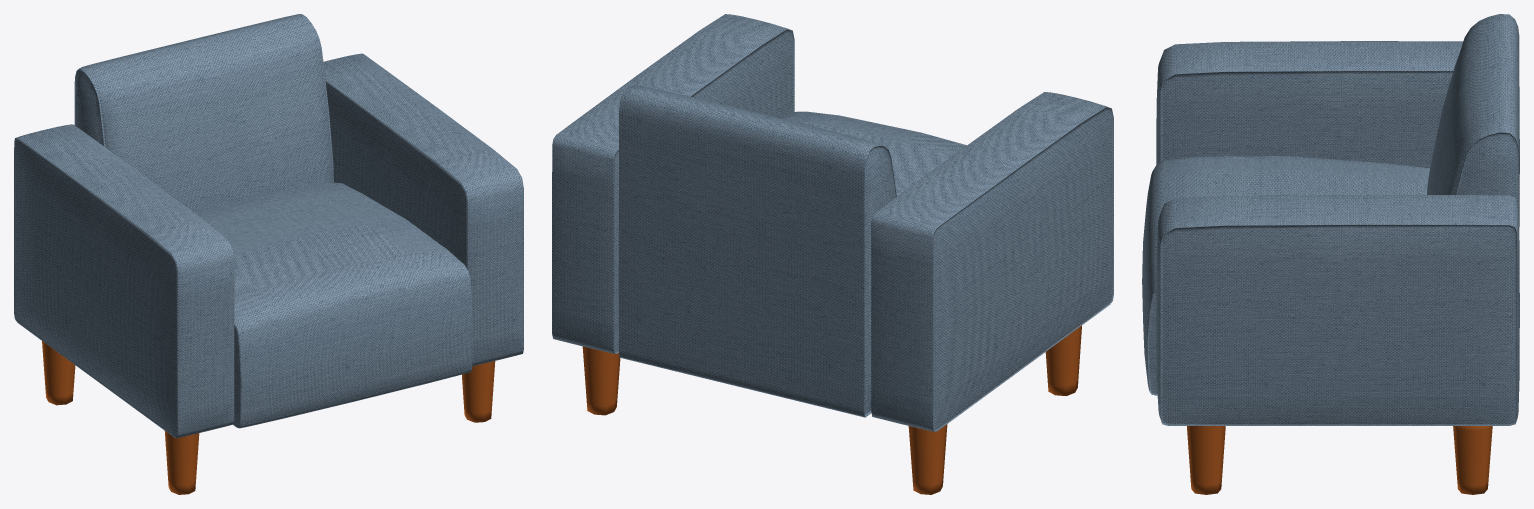
The model's file is design12.obj.
3 renders of one model, left to right at view 1: azimuth 30°, elevation 25°; view 2: azimuth 150°, elevation 25°; view 3: azimuth 270°, elevation 25°, orthographic. The views are drawn at different scales.
Visible parts, largest first — view 1: Box050, Box055, Box053, Box056, Box057; view 2: Box050, Box053, Box055, Box057, Box056; view 3: Box050, Box053, Box055, Box057, Box056.
Boxes of the visible parts, x1,y1,x2,y2 form: Box050: (14, 53, 523, 437); Box055: (194, 182, 473, 428); Box053: (74, 14, 333, 212); Box056: (165, 361, 495, 494); Box057: (42, 341, 75, 405); Box050: (552, 14, 1113, 431); Box053: (618, 85, 896, 417); Box055: (782, 111, 966, 196); Box057: (582, 346, 947, 494); Box056: (1045, 325, 1081, 395); Box050: (1156, 41, 1519, 425); Box053: (1427, 14, 1519, 229); Box055: (1142, 156, 1429, 395); Box057: (1453, 426, 1492, 494); Box056: (1187, 426, 1225, 494).
Bounding box in the file's own units: 816 × 690 × 696.
Materials: 2 (1 with a texture image).
